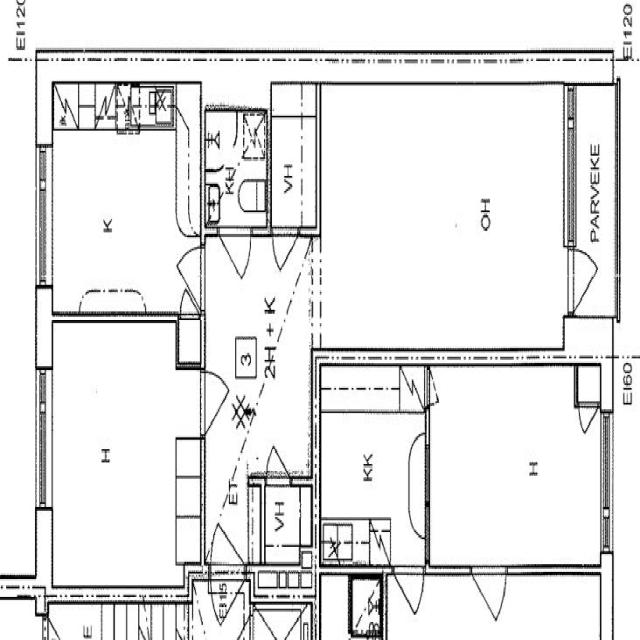door: (563, 239, 601, 313), (470, 562, 510, 622), (174, 240, 204, 312), (217, 225, 254, 281), (392, 560, 427, 617), (270, 223, 300, 274), (404, 495, 432, 544), (576, 387, 602, 435), (264, 442, 290, 489), (424, 368, 440, 414)
window: (557, 80, 584, 256), (29, 136, 56, 298), (30, 358, 56, 520), (598, 410, 616, 555)
zone: (318, 81, 572, 355), (44, 318, 202, 600), (426, 364, 605, 573), (44, 130, 196, 323), (197, 235, 314, 480), (316, 406, 426, 570), (201, 105, 271, 234), (270, 88, 320, 236), (261, 482, 314, 572), (252, 572, 312, 640), (349, 570, 383, 640), (211, 564, 247, 628)
